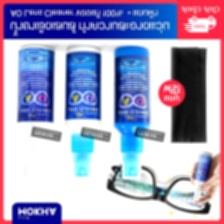cleaning_solution: (15, 43, 57, 183), (111, 44, 153, 180), (61, 44, 103, 179), (190, 149, 214, 203)
